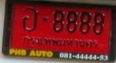txt38: (21, 7, 38, 32)
